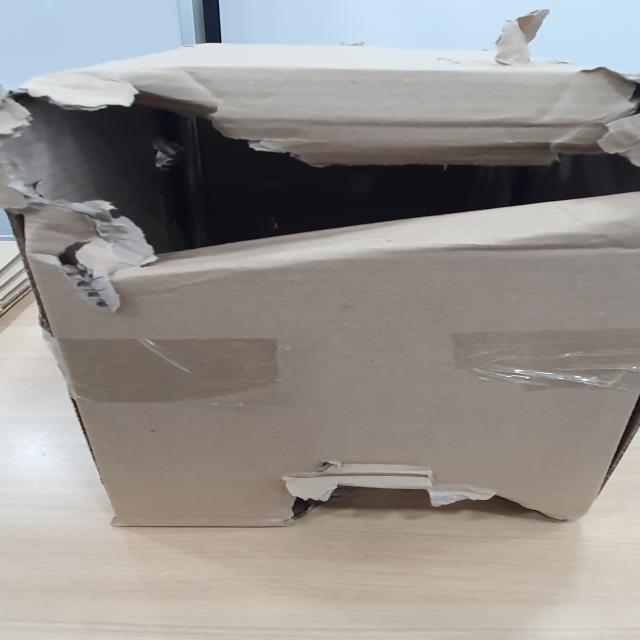hole: (3, 92, 639, 252), (273, 463, 572, 521)
